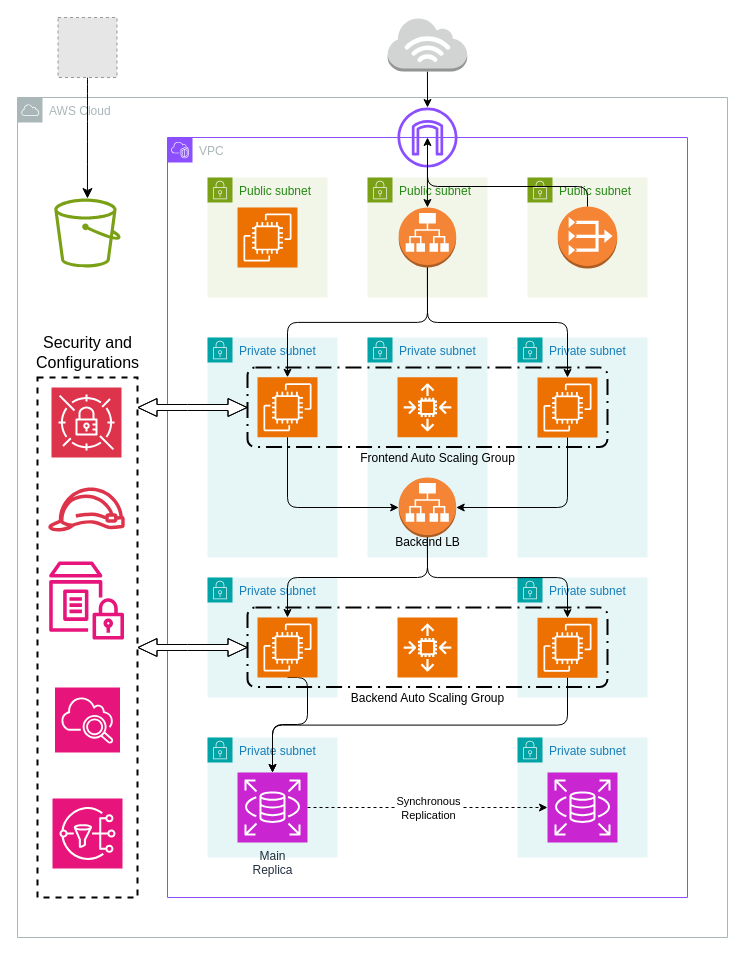
This 745x955 diagram has some shape labels left out. Grey dashed boxes stand in for pictures. The box of each missing label's shape, as (x1, y1, x2, y2) in pixels:
CloudWatch: (54, 686, 120, 752)
Failover Replica: (546, 772, 618, 842)
Frontend LB: (398, 206, 456, 268)
IAM Roles: (47, 487, 125, 531)
Secret Manager: (50, 386, 122, 458)
SNS: (52, 798, 122, 868)
SSM Parameters: (48, 561, 124, 639)
